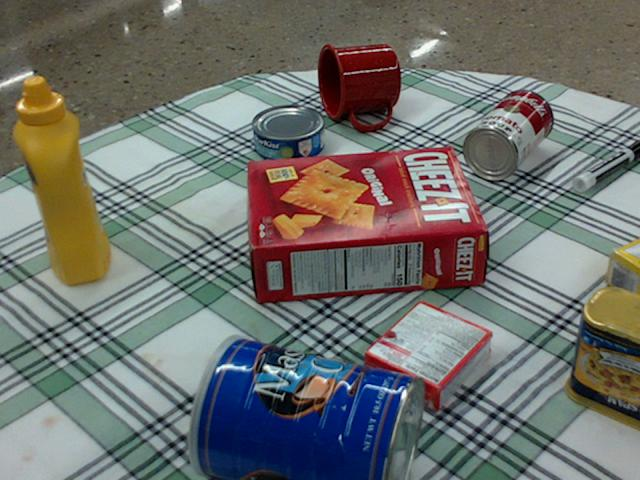cracker_box: (248, 148, 484, 302)
gelatin_box: (364, 300, 493, 407)
large_marker: (572, 141, 639, 190)
master_chef_can: (188, 337, 423, 479)
mug: (316, 42, 401, 128)
mustard_bottle: (13, 76, 110, 284)
potted_meat_can: (565, 284, 639, 426)
sugar_box: (607, 241, 639, 305)
tomato_soup_can: (462, 89, 552, 178)
tuna_fish_can: (250, 104, 323, 161)
